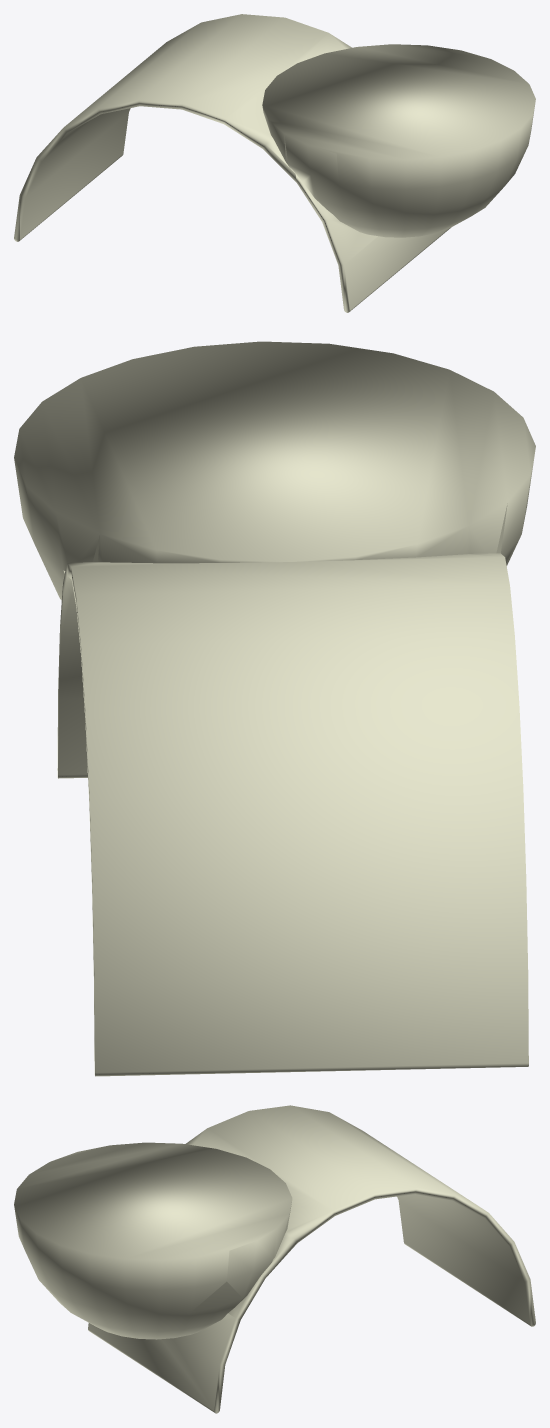
Rendered from original-65.obj.
3 views of the same model, one above another, from view 1: azimuth 30°, elevation 25°; view 2: azimuth 150°, elevation 25°; view 3: azimuth 270°, elevation 25° (orthographic). The views are drawn at different scales.
Visible parts, largest first — view 1: mesh45/mesh45-geometry#mesh45-geometry; view 2: mesh45/mesh45-geometry#mesh45-geometry; view 3: mesh45/mesh45-geometry#mesh45-geometry.
Boxes of the visible parts, left/top/right/bottom form: mesh45/mesh45-geometry#mesh45-geometry: left=14, top=14, right=535, bottom=312; mesh45/mesh45-geometry#mesh45-geometry: left=14, top=341, right=535, bottom=1076; mesh45/mesh45-geometry#mesh45-geometry: left=14, top=1105, right=535, bottom=1413.
Bounding box in the file's own units: 0.1237 × 0.0544 × 0.1454.
